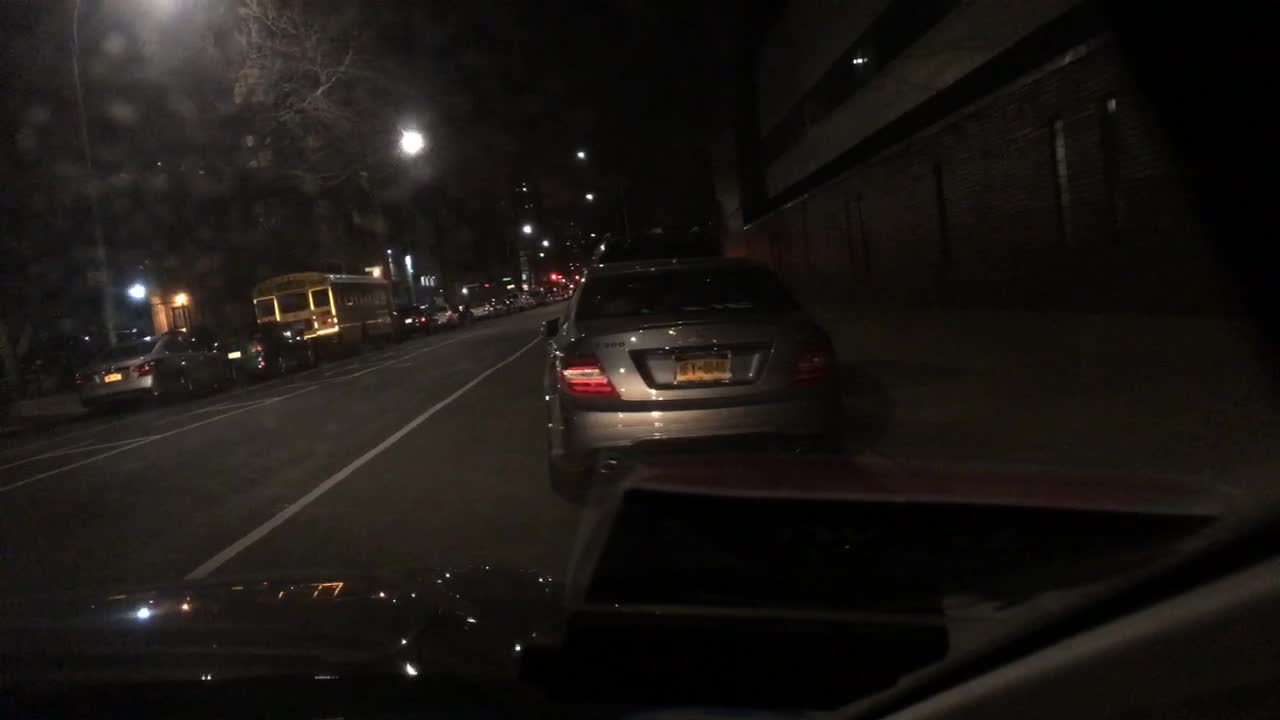bus: (251, 273, 404, 356)
car: (543, 255, 850, 499), (73, 326, 240, 413), (228, 321, 312, 380), (409, 294, 454, 330), (461, 293, 494, 321), (502, 292, 525, 310)
